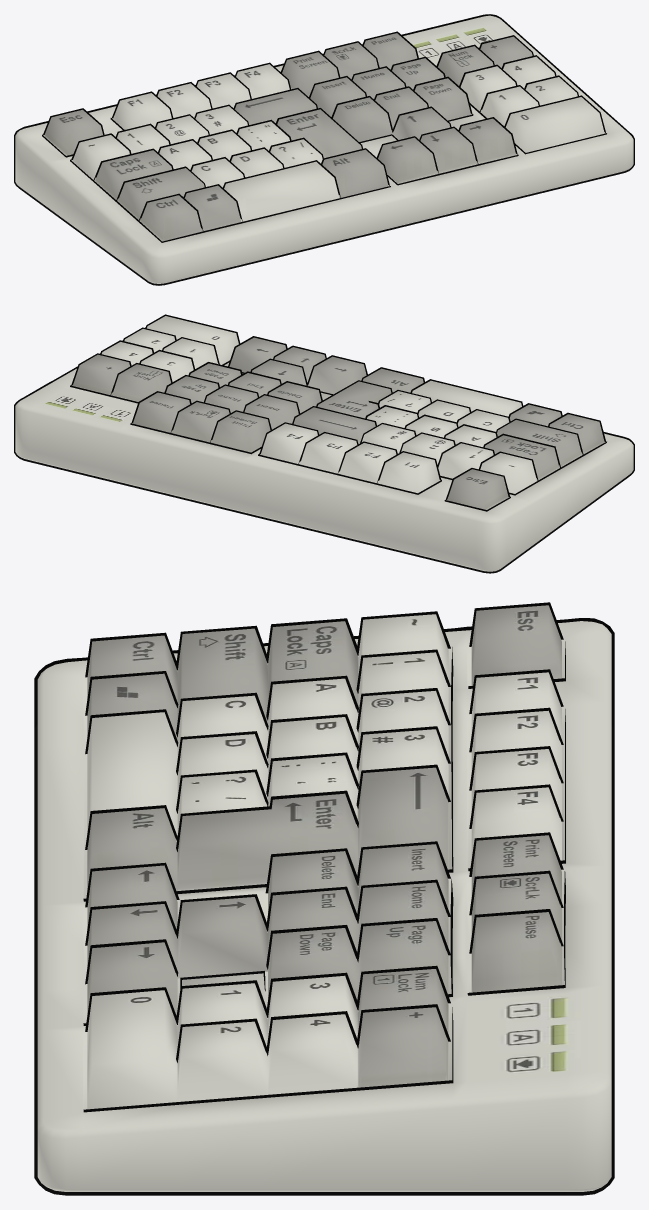
Rendered from key-mini-transformed.glb.
3 renders of one model, top to bottom at view 1: azimuth 30°, elevation 25°; view 2: azimuth 150°, elevation 25°; view 3: azimuth 270°, elevation 25°, orthographic. The views are drawn at different scales.
Parts seen in each view (by area): view 1: LP_keyboard_0, LP_outline_0; view 2: LP_keyboard_0, LP_outline_0; view 3: LP_keyboard_0, LP_outline_0.
Boxes of the visible parts, <box> form: LP_keyboard_0: <box>15,15,633,283</box>; LP_outline_0: <box>14,14,634,285</box>; LP_keyboard_0: <box>15,316,633,571</box>; LP_outline_0: <box>14,314,634,573</box>; LP_keyboard_0: <box>37,605,611,1191</box>; LP_outline_0: <box>34,602,614,1195</box>.
Bounding box in the file's own units: 248 × 35.55 × 128.
2 materials, 1 textured.
